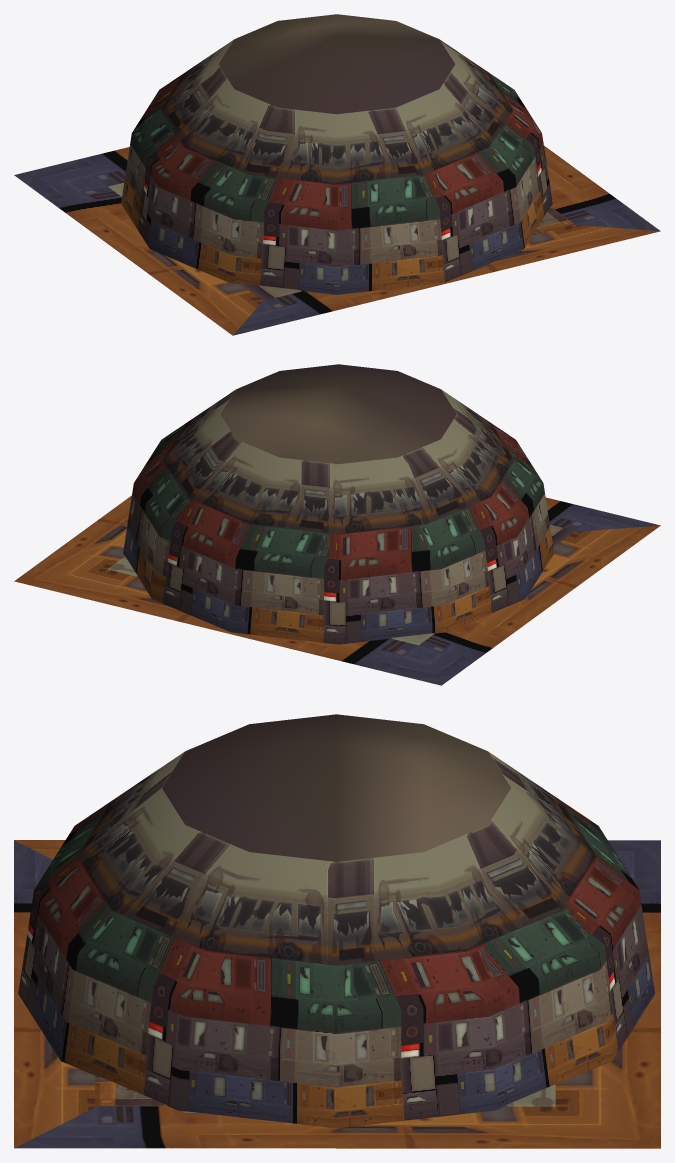
Rendered from Combined_Mesh_root_scene__8_c5249964__junkyard_diffuse_05_d_b8c417bd_c1f257.obj.
3 views of the same model, one above another, from view 1: azimuth 30°, elevation 25°; view 2: azimuth 150°, elevation 25°; view 3: azimuth 270°, elevation 25° (orthographic). The views are drawn at different scales.
Bounding box in the file's own units: 109 × 41.29 × 96.33.
294 materials, 294 textured.
